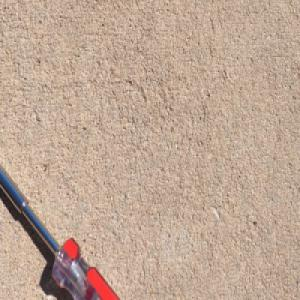Screwdriver: (0, 161, 121, 300)
